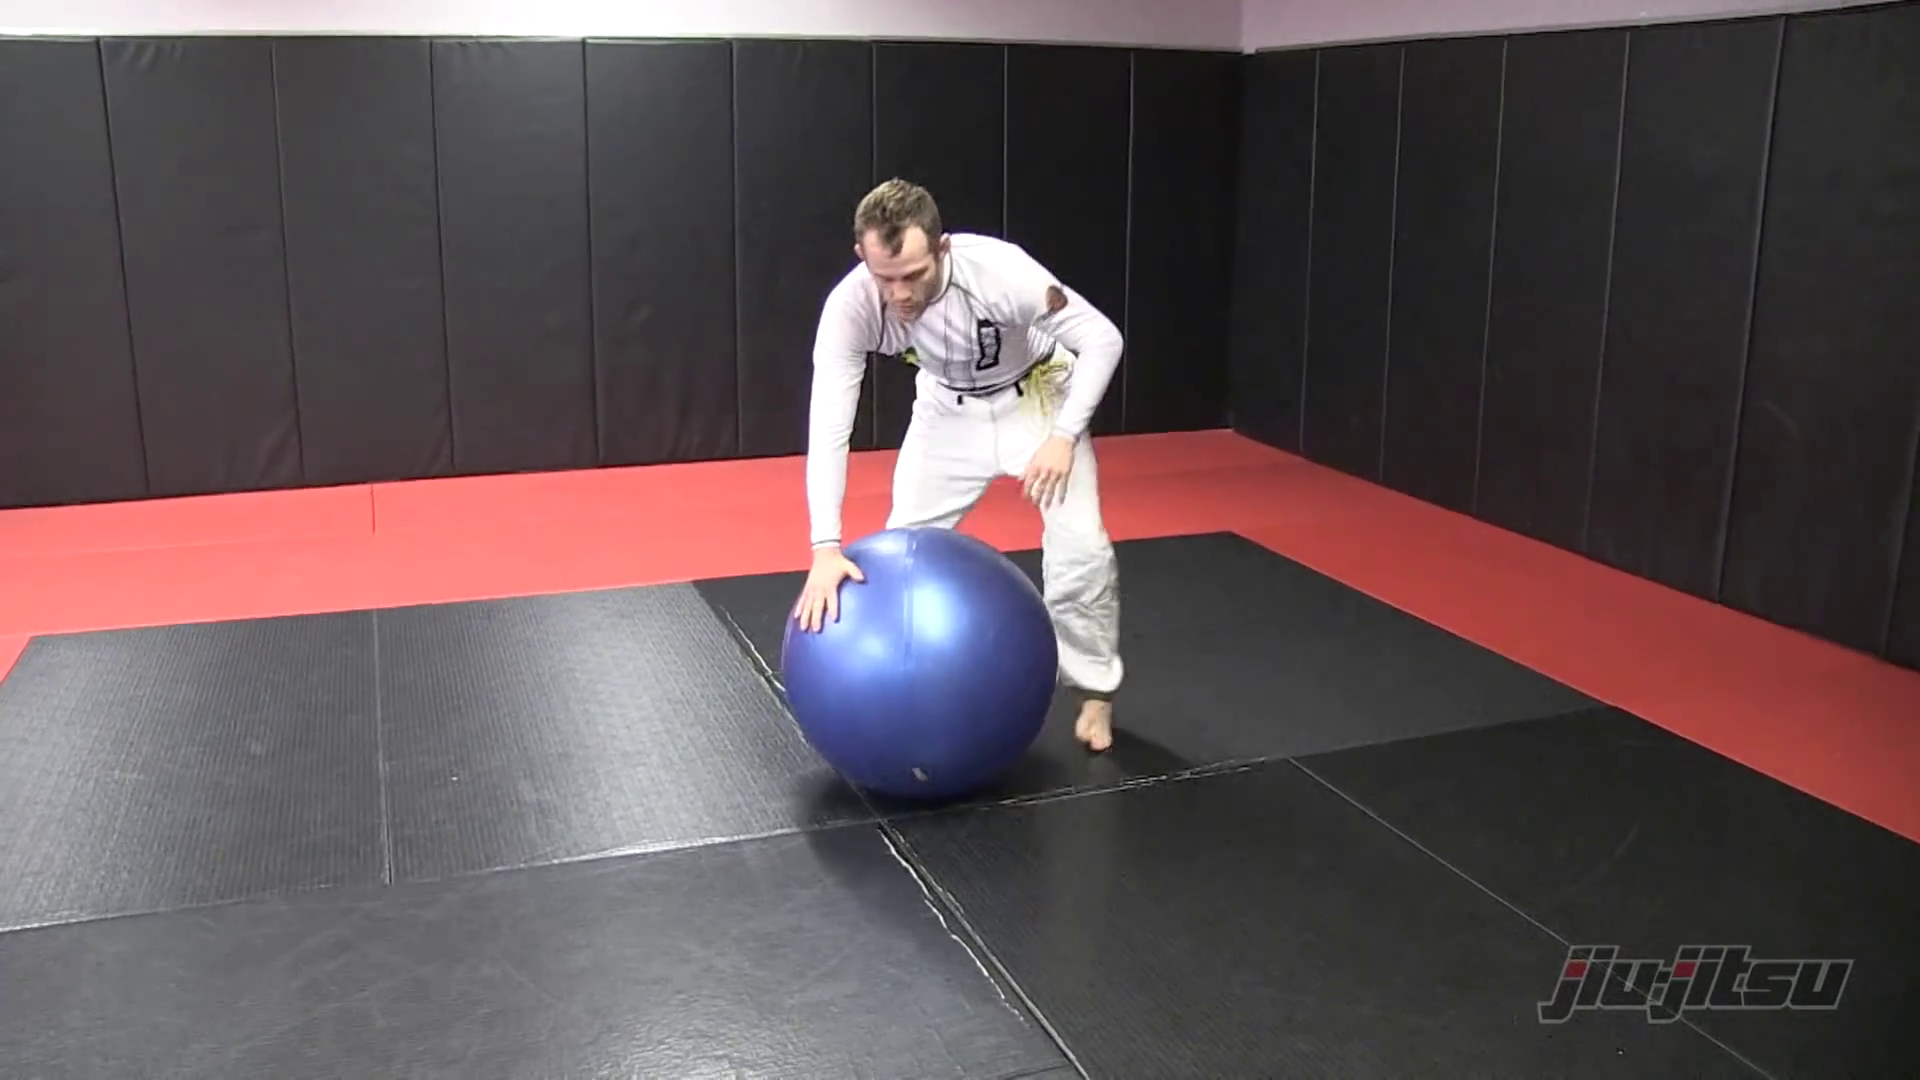yogaball: (762, 508, 1073, 814)
